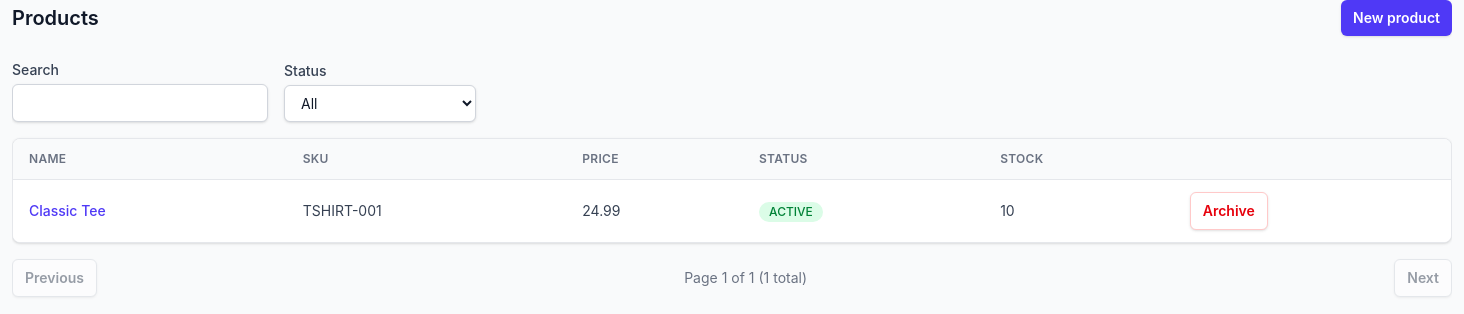
Test: ProductsListPage › archives a product, refetches the list, and shows a success toast
Expected: the link "Classic Tee" is shown, x1=29 y1=202 x2=106 y2=219
Click the button "Archive" at (1229, 211), box x1=1190 y1=192 x2=1268 y2=230
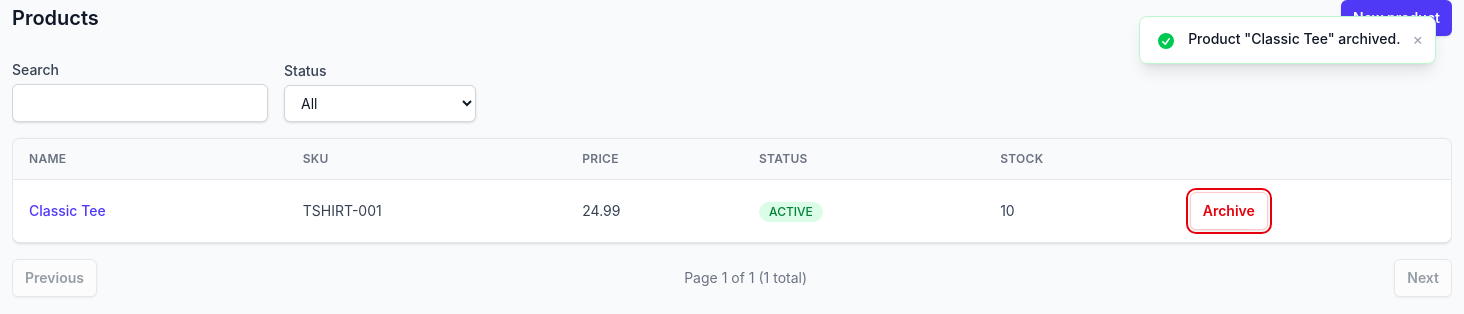
Expected: the text "Product \"Classic Tee\" archived." is shown, x1=1188 y1=29 x2=1400 y2=49
